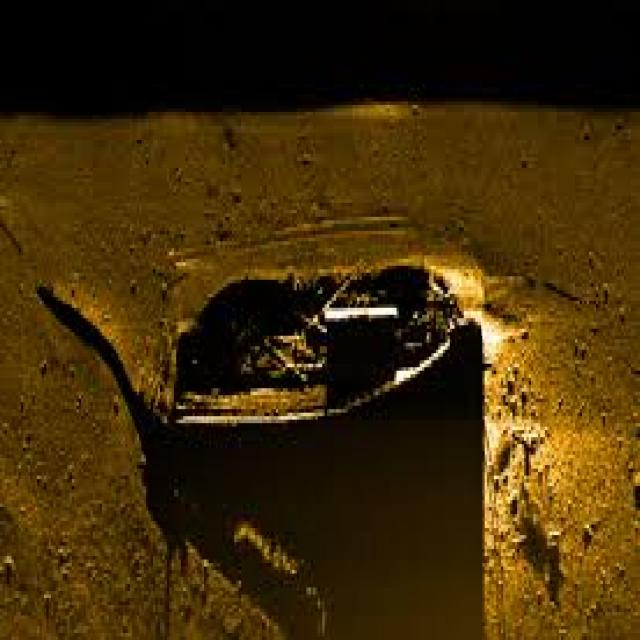ship: (134, 241, 494, 427)
